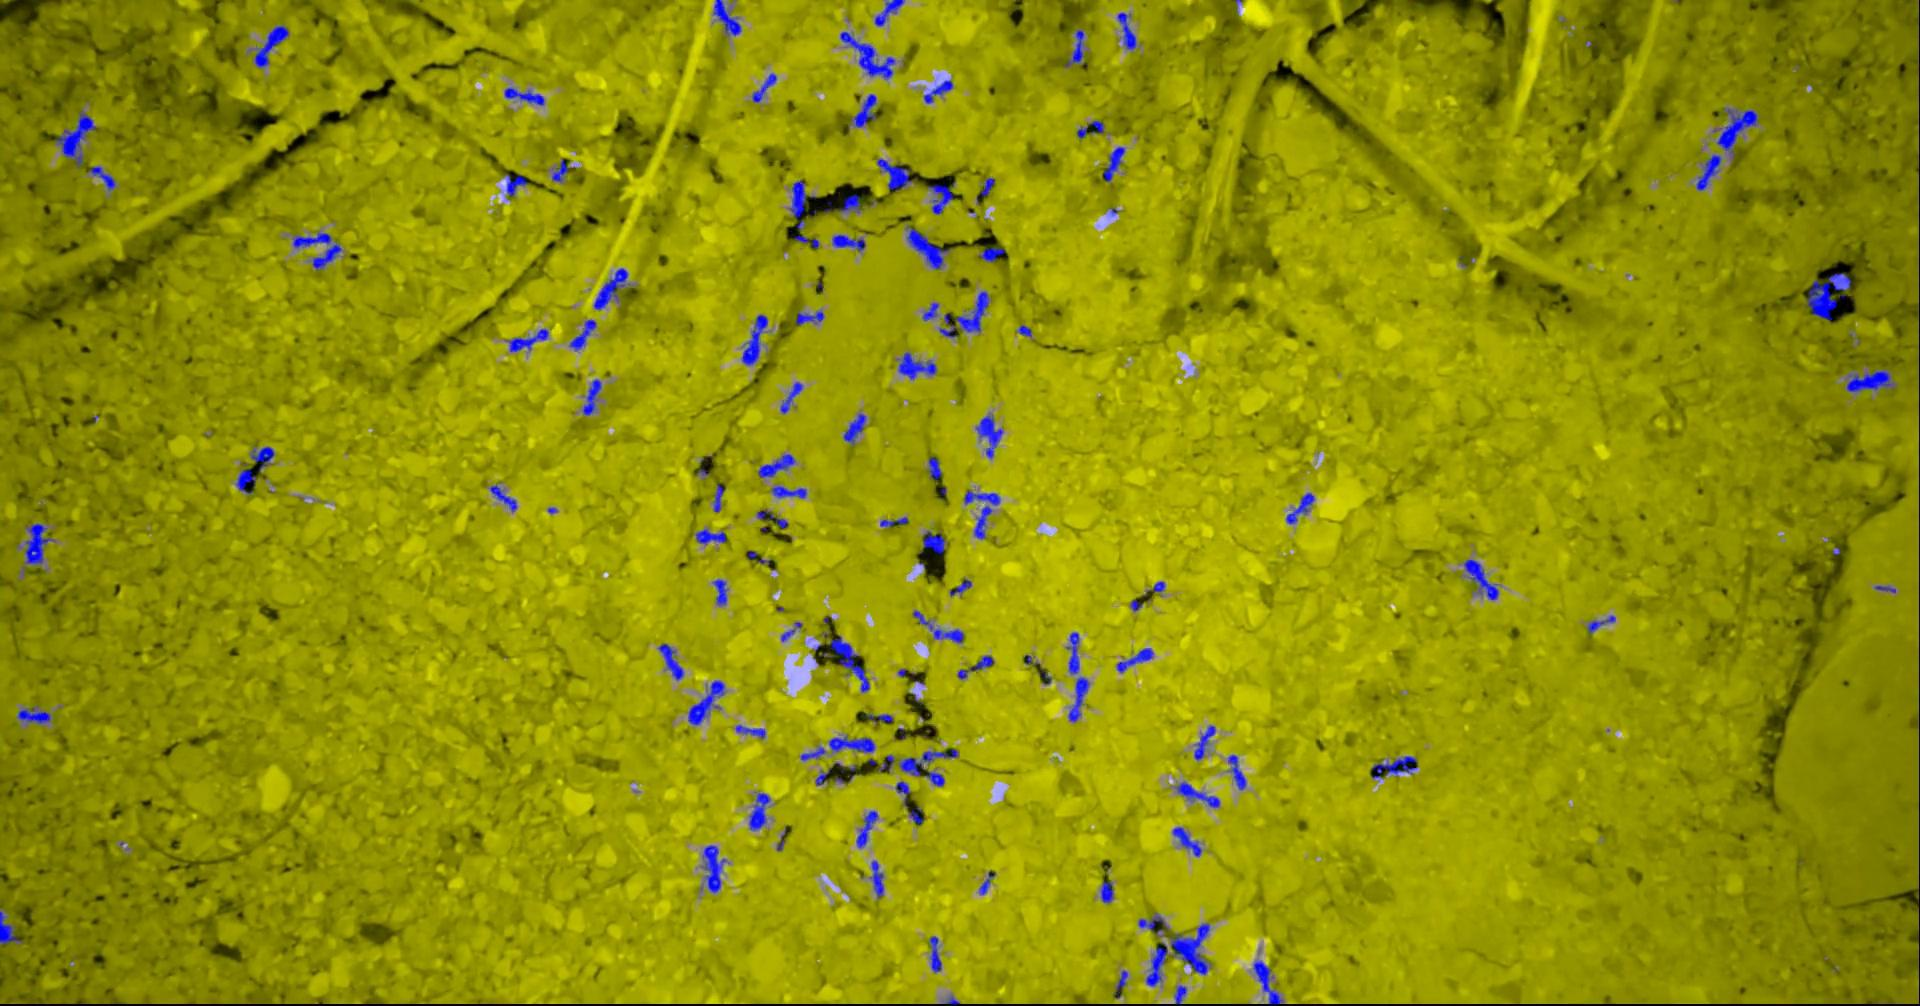ant: (841, 30, 897, 77), (829, 635, 871, 691), (940, 291, 990, 337), (57, 111, 98, 166), (1808, 272, 1851, 320), (1718, 107, 1759, 158), (908, 225, 950, 269), (295, 232, 343, 269), (965, 489, 1001, 539), (690, 680, 726, 724), (914, 610, 965, 641), (900, 748, 959, 775), (257, 24, 290, 67), (1465, 559, 1500, 600), (596, 267, 629, 309), (743, 314, 770, 365), (1255, 960, 1284, 1005), (791, 180, 817, 229), (977, 415, 1004, 459), (879, 158, 914, 191), (703, 843, 728, 892), (25, 523, 55, 563), (1371, 754, 1418, 779), (1178, 781, 1222, 807), (899, 351, 937, 379), (1848, 370, 1893, 391), (715, 0, 742, 36), (1698, 154, 1723, 191), (1117, 647, 1154, 672), (1069, 676, 1090, 721), (852, 93, 879, 127), (510, 328, 550, 351), (759, 453, 796, 478), (660, 643, 684, 680), (1288, 492, 1316, 523), (1175, 826, 1203, 856), (959, 655, 996, 678), (571, 319, 597, 351), (1103, 146, 1126, 180), (930, 183, 955, 213), (830, 735, 876, 752), (505, 86, 545, 105), (750, 793, 771, 829), (858, 810, 879, 847), (876, 0, 905, 25), (753, 72, 778, 102), (1195, 725, 1217, 760), (1, 909, 23, 944), (844, 413, 867, 445), (491, 484, 518, 511), (924, 79, 954, 103), (1065, 29, 1084, 66), (584, 379, 603, 415), (1119, 11, 1137, 50), (782, 382, 804, 413), (825, 194, 861, 212), (91, 166, 117, 191), (251, 446, 276, 471), (833, 234, 867, 251), (1229, 754, 1247, 789), (237, 464, 258, 493), (758, 509, 789, 528), (1140, 915, 1170, 934), (505, 174, 530, 196), (1078, 119, 1105, 138), (19, 708, 52, 723), (1589, 615, 1617, 633), (924, 531, 946, 554), (872, 860, 885, 897), (697, 528, 728, 544), (1068, 633, 1079, 673), (931, 935, 943, 970), (737, 724, 767, 738), (978, 177, 996, 199), (980, 870, 997, 894), (773, 485, 808, 497), (797, 311, 825, 325), (782, 622, 803, 641), (951, 578, 973, 596), (552, 158, 569, 180), (795, 234, 820, 248), (714, 579, 728, 605), (897, 781, 910, 807), (1116, 970, 1129, 998), (715, 484, 728, 511), (982, 246, 1006, 260), (930, 456, 943, 480), (803, 746, 827, 760), (879, 754, 897, 772), (817, 767, 833, 785), (927, 771, 946, 786), (881, 516, 909, 526), (1175, 984, 1189, 1005), (924, 302, 940, 320), (910, 807, 924, 826), (866, 713, 895, 721), (1102, 880, 1114, 902), (1148, 580, 1166, 591), (1018, 324, 1032, 337)
